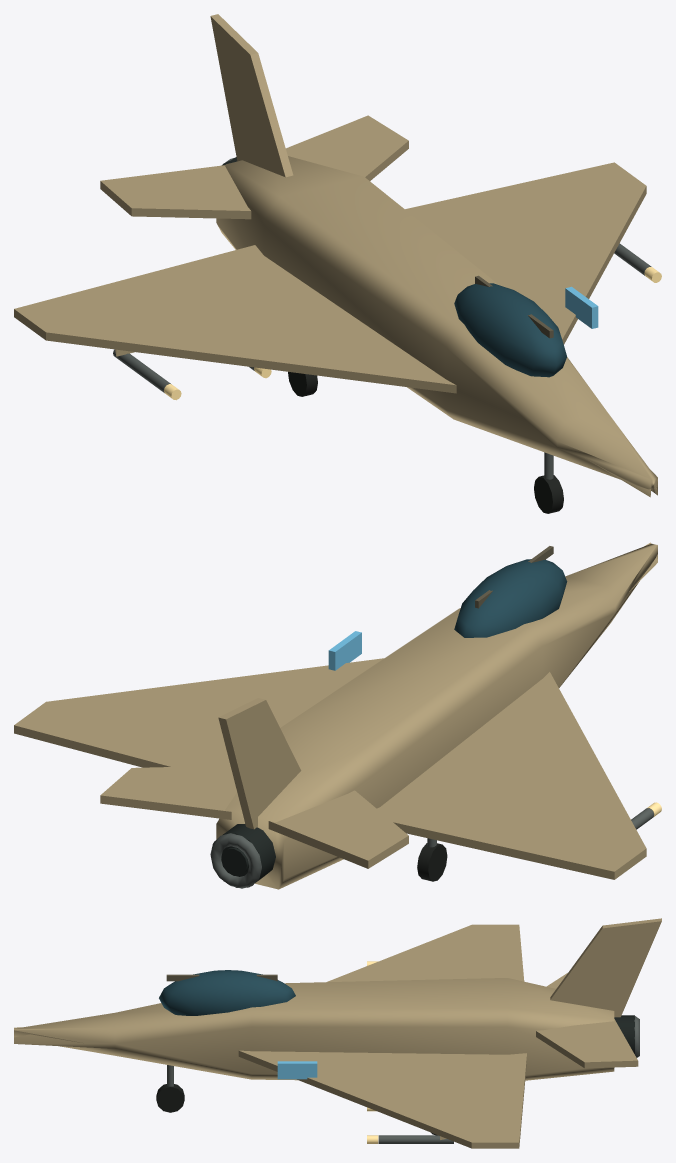
Rendered from multirole.glb.
3 renders of one model, top to bottom at view 1: azimuth 30°, elevation 25°; view 2: azimuth 150°, elevation 25°; view 3: azimuth 270°, elevation 25°, orthographic. The views are drawn at different scales.
Visible parts, largest first — view 1: armor, glass, rubber, steel, marking; view 2: armor, glass, steel, dark, rubber, marking; view 3: armor, glass, steel, marking, rubber, dark.
Boxes of the visible parts, x1,y1,x2,y2 form: armor: [14, 14, 657, 497]; glass: [454, 283, 566, 377]; rubber: [288, 372, 563, 513]; steel: [113, 158, 651, 392]; marking: [565, 286, 598, 328]; armor: [14, 542, 657, 889]; glass: [454, 559, 567, 637]; steel: [210, 808, 654, 888]; dark: [214, 824, 275, 887]; rubber: [417, 843, 447, 881]; marking: [328, 631, 361, 670]; armor: [14, 918, 661, 1148]; glass: [159, 970, 295, 1015]; steel: [378, 1016, 639, 1143]; marking: [277, 1061, 317, 1079]; rubber: [156, 1084, 437, 1135]; dark: [614, 1015, 634, 1053].
Bounding box in the file's own units: 6.5 × 2.64 × 8.17.
